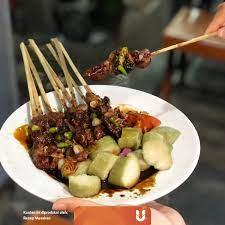sate: (29, 88, 184, 192)
